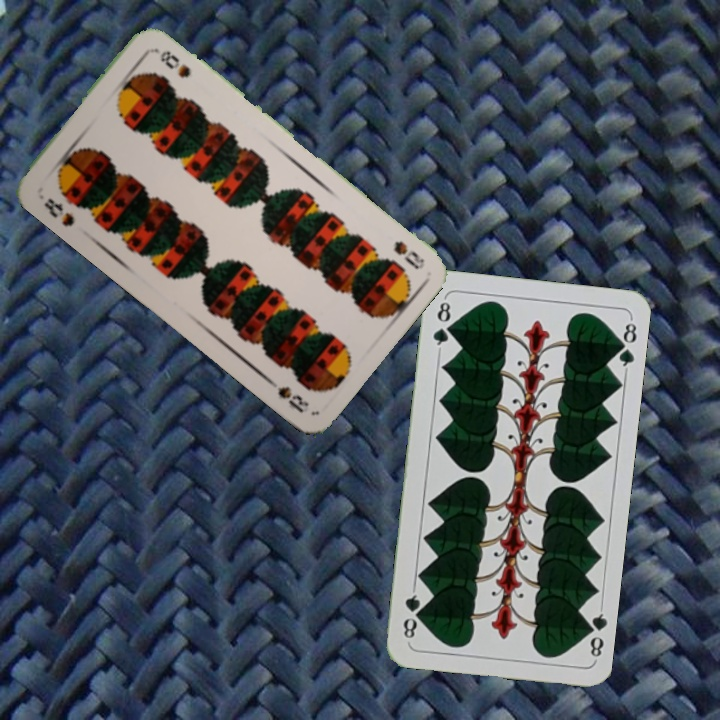G8: (579, 603, 609, 662), (428, 294, 454, 353)
S8: (39, 193, 77, 230), (389, 236, 428, 272)
